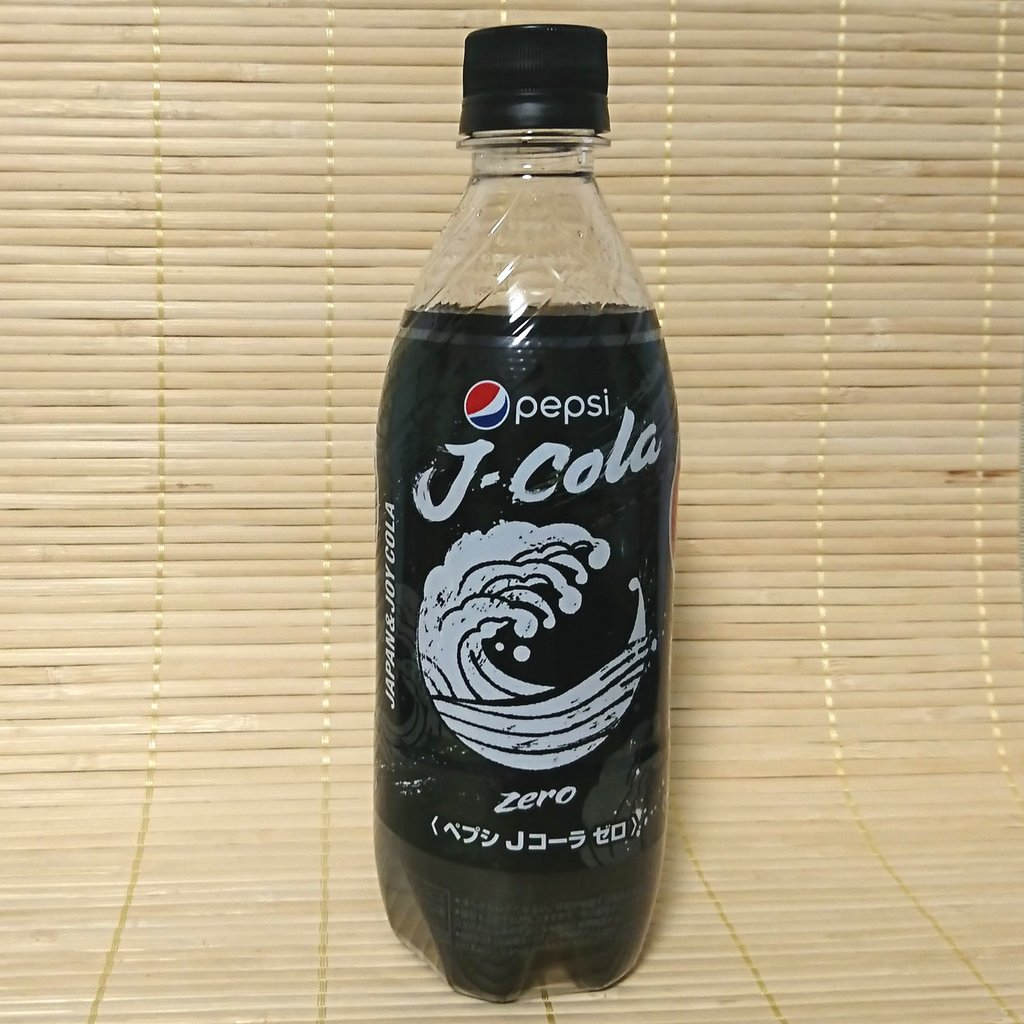pepsi: (463, 372, 507, 426)
